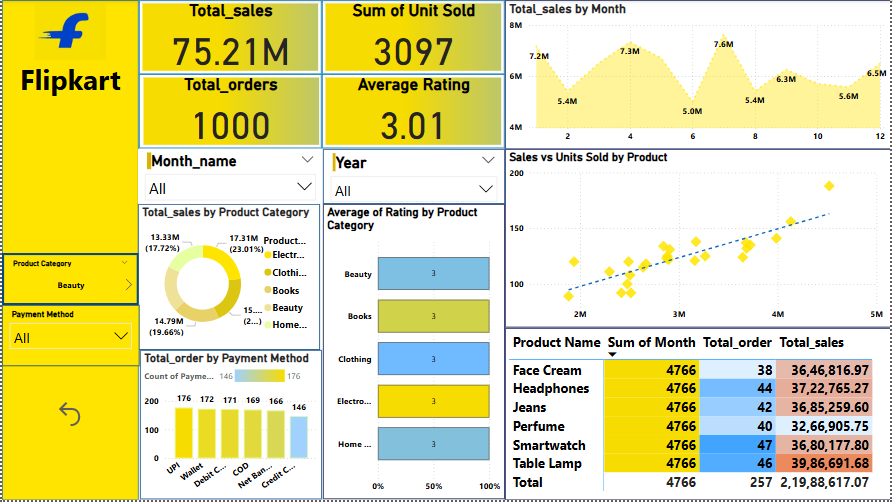

What the dashboard file says about the page in this screenshot:
{"tool":"powerbi","page":{"name":"sales performance dashboard","canvas":[1280,720],"ordinal":0},"visuals":[{"type":"shape","box":[0,0,196.6,720.4],"z":0},{"type":"image","box":[198.4,107.3,262.8,107.3],"z":1000},{"type":"image","box":[196.6,0,262.8,107.3],"z":2000},{"type":"image","box":[461.2,107.3,262.8,107.3],"z":3000},{"type":"image","box":[461.2,0,262.8,107.3],"z":4000},{"type":"card","title":"Total_sales","fields":{"Values":["flipkart_sales.Total_sales"]},"box":[196.6,0,262.8,107.3],"z":5000},{"type":"card","title":"Total_orders","fields":{"Values":["flipkart_sales.Total_order"]},"box":[196.6,107.3,262.8,107.3],"z":6000},{"type":"image","box":[0,0,196.6,91.2],"z":7000},{"type":"card","title":"Sum of Unit Sold","fields":{"Values":["Sum(flipkart_sales.Units  Sold)"]},"box":[461.2,0,262.8,107.3],"z":8000},{"type":"card","title":"Average Rating","fields":{"Values":["Avg(flipkart_sales.Rating)"]},"box":[461.2,107.3,262.8,107.3],"z":9000},{"type":"stackedAreaChart","fields":{"Category":["Master_date.Month","Master_date.Year"],"Y":["flipkart_sales.Total_sales"]},"box":[724,0,556,214.5],"z":10000},{"type":"donutChart","fields":{"Category":["flipkart_sales.Product Category"],"Y":["flipkart_sales.Total_sales"]},"box":[196.2,294.3,261.6,210.2],"z":11000},{"type":"clusteredColumnChart","fields":{"Category":["flipkart_sales.Payment Method"],"Y":["flipkart_sales.Total_order"]},"box":[198.5,504.5,261.6,214.9],"z":12000},{"type":"hundredPercentStackedBarChart","fields":{"Category":["flipkart_sales.Product Category"],"Y":["Avg(flipkart_sales.Rating)"]},"box":[462.5,294.3,261.6,425.1],"z":13000},{"type":"scatterChart","title":"Sales vs Units  Sold by Product","fields":{"Category":["flipkart_sales.Product Name"],"X":["flipkart_sales.Total_sales"],"Y":["Sum(flipkart_sales.Units  Sold)"]},"box":[724,214.5,556,257.4],"z":14000},{"type":"pivotTable","fields":{"Values":["Sum(Master_date.Month)","flipkart_sales.Total_order","flipkart_sales.Total_sales"],"Rows":["flipkart_sales.Product Name"]},"box":[724,472,556,248.5],"z":15000},{"type":"slicer","fields":{"Values":["Master_date.Month_name"]},"box":[196.2,214.9,266.3,79.4],"z":16000},{"type":"slicer","fields":{"Values":["Master_date.Year"]},"box":[462.5,214.9,261.6,79.4],"z":17000},{"type":"actionButton","box":[74.2,567,45.5,57.4],"z":18000},{"type":"slicer","fields":{"Values":["flipkart_sales.Product Category"]},"box":[0,364.7,196.6,75.1],"z":19000},{"type":"slicer","fields":{"Values":["flipkart_sales.Payment Method"]},"box":[0,439.8,198.4,87.6],"z":20000}]}

Visuals, with their boxes in screenshot pixels (x1, y1, x2, y2), scaled from the page's 1280x720 canvas onto the 893x503 screenshot:
shape: left=0, top=0, right=137, bottom=502
image: left=138, top=75, right=322, bottom=150
image: left=137, top=0, right=321, bottom=75
image: left=322, top=75, right=505, bottom=150
image: left=322, top=0, right=505, bottom=75
"Total_sales" card: left=137, top=0, right=321, bottom=75
"Total_orders" card: left=137, top=75, right=321, bottom=150
image: left=0, top=0, right=137, bottom=64
"Sum of Unit Sold" card: left=322, top=0, right=505, bottom=75
"Average Rating" card: left=322, top=75, right=505, bottom=150
stackedAreaChart - Master_date.Month x Master_date.Year: left=505, top=0, right=892, bottom=150
donutChart - flipkart_sales.Product Category x flipkart_sales.Total_sales: left=137, top=206, right=319, bottom=352
clusteredColumnChart - flipkart_sales.Payment Method x flipkart_sales.Total_order: left=138, top=352, right=321, bottom=502
hundredPercentStackedBarChart - flipkart_sales.Product Category x Avg(flipkart_sales.Rating): left=323, top=206, right=505, bottom=502
"Sales vs Units  Sold by Product" scatterChart: left=505, top=150, right=892, bottom=330
pivotTable - Sum(Master_date.Month) x flipkart_sales.Total_order: left=505, top=330, right=892, bottom=502
slicer - Master_date.Month_name: left=137, top=150, right=323, bottom=206
slicer - Master_date.Year: left=323, top=150, right=505, bottom=206
actionButton: left=52, top=396, right=84, bottom=436
slicer - flipkart_sales.Product Category: left=0, top=255, right=137, bottom=307
slicer - flipkart_sales.Payment Method: left=0, top=307, right=138, bottom=368
